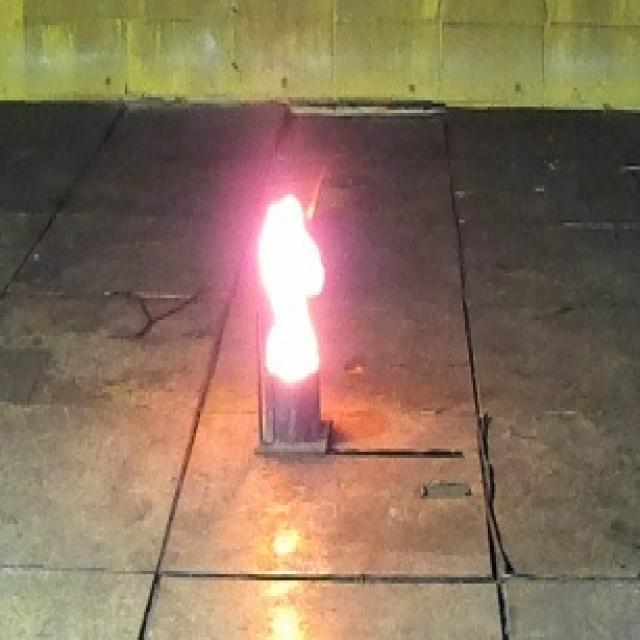Fire: (258, 193, 326, 385)
